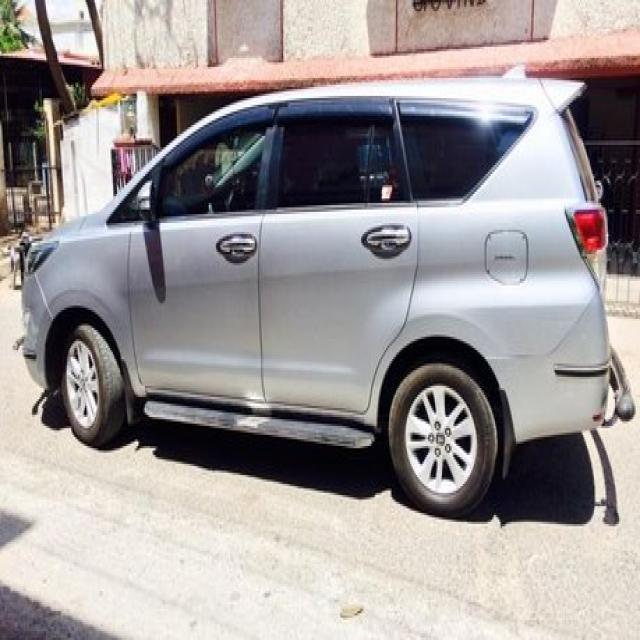light_vehicle: (18, 76, 635, 517)
